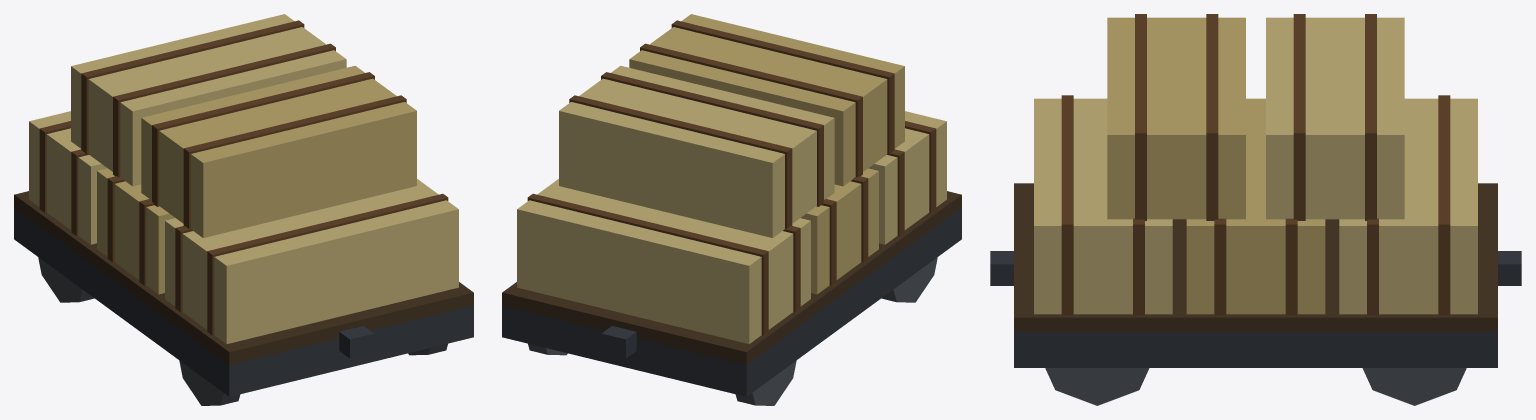
The model's file is wagon_fiber.glb.
The picture shows the model from 3 angles, left to right: view 1: azimuth 30°, elevation 25°; view 2: azimuth 150°, elevation 25°; view 3: azimuth 270°, elevation 25°; orthographic projection. The views are drawn at different scales.
Parts seen in each view (by area): view 1: wagon_fiber; view 2: wagon_fiber; view 3: wagon_fiber.
Part boxes in pixels (x1=…): wagon_fiber: x1=14, y1=14, x2=473, y2=405; wagon_fiber: x1=502, y1=14, x2=961, y2=405; wagon_fiber: x1=990, y1=14, x2=1521, y2=405.
Size of the model in its own units: 0.8 by 0.752 by 1.34.
